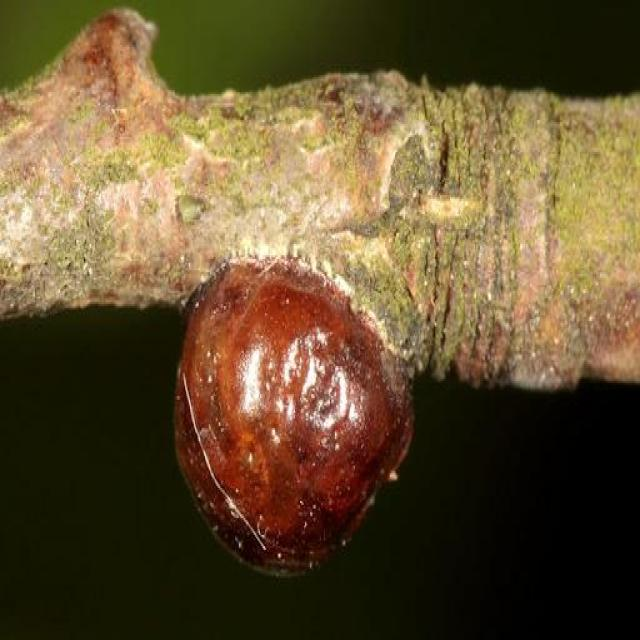Black Scale: (175, 255, 414, 574)
